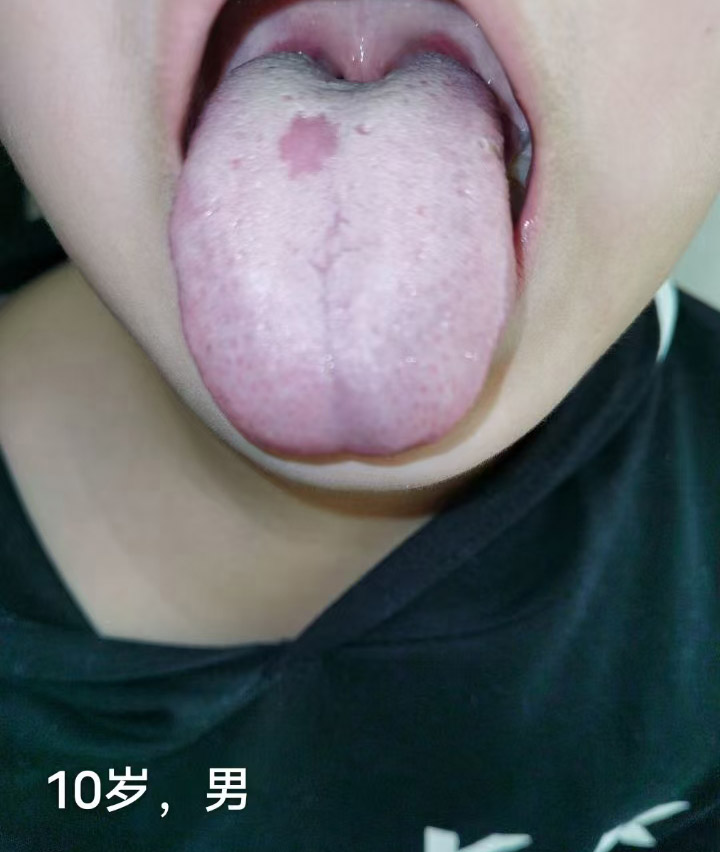baitaishe: (170, 51, 514, 456)
botaishe: (251, 97, 359, 195)
shenquao: (272, 51, 448, 88)
